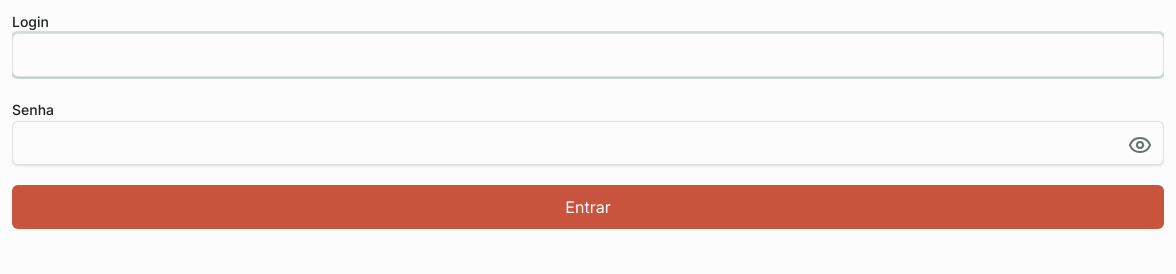
LoginForm › validates the fields before contacting the API
In the field labelled "Login": [588, 55] box [12,33,1164,77], type "ana"
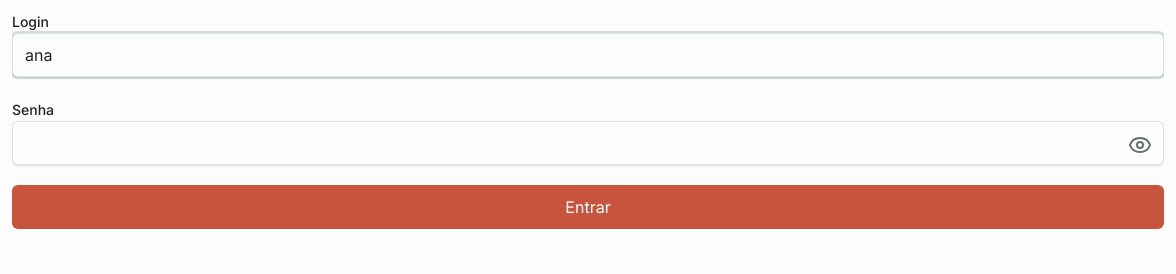
In the password field labelled "Senha": [588, 143] box [12,121,1164,165], type "curta"
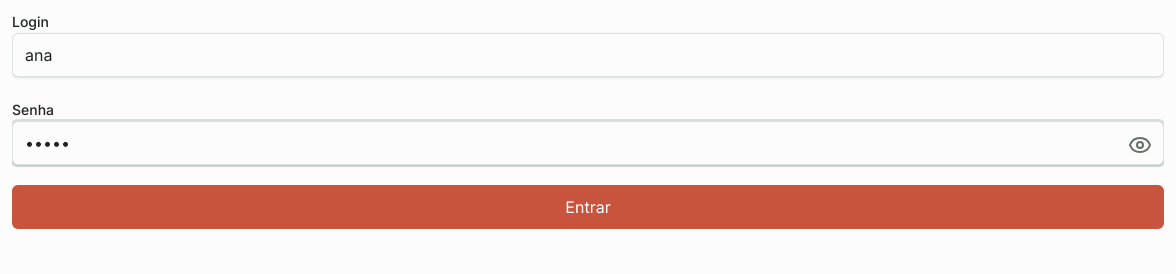
Click the button "Entrar": [588, 207] box [12,185,1164,229]
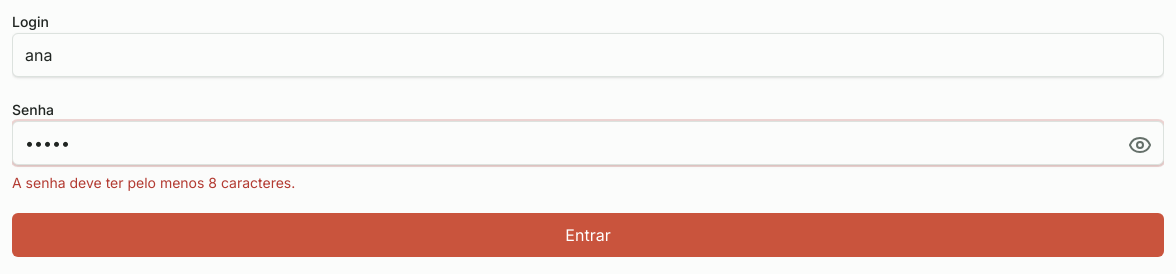
Expected: the text "A senha deve ter pelo menos 8 caracteres." is shown, [12,174,295,191]
